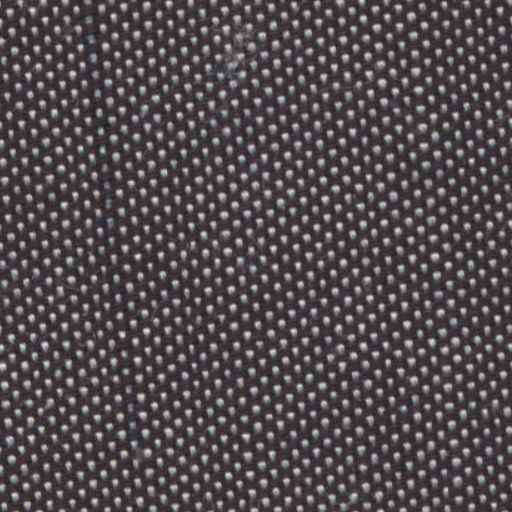TuoSha: (60, 10, 165, 500)
